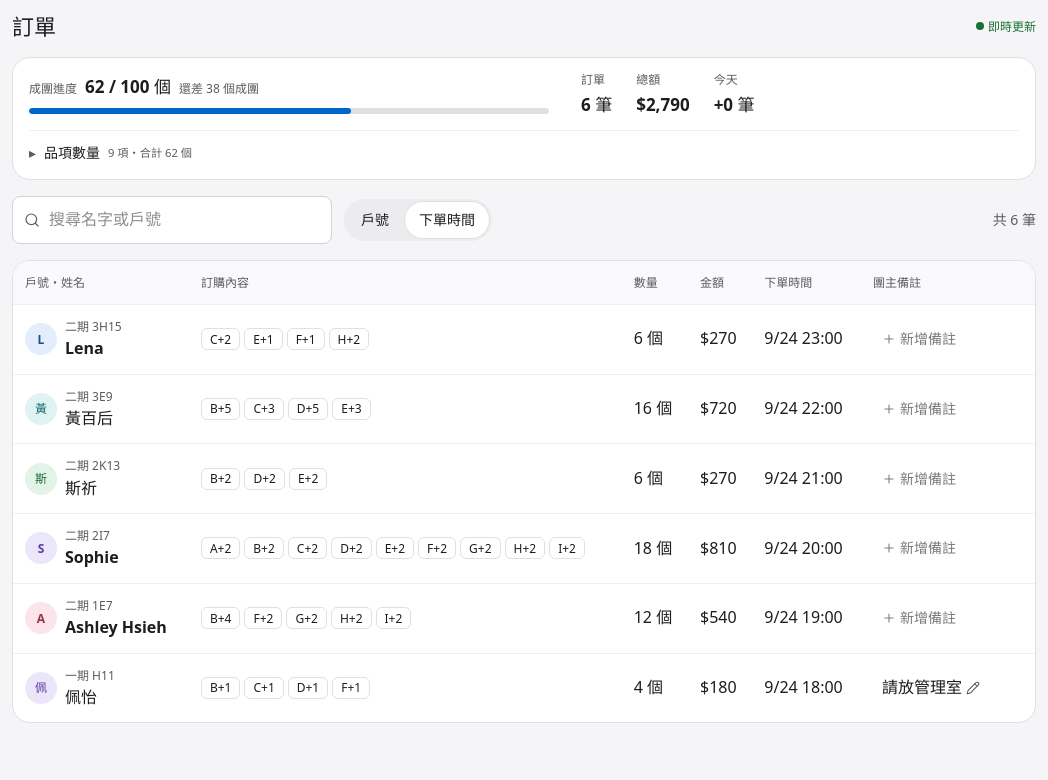
Test case: OrdersSection › starts with the newest orders while open and by household once closed, and searches by name or household
Click the radio button labelled "戶號".
click(375, 219)  # box [361,210,389,229]
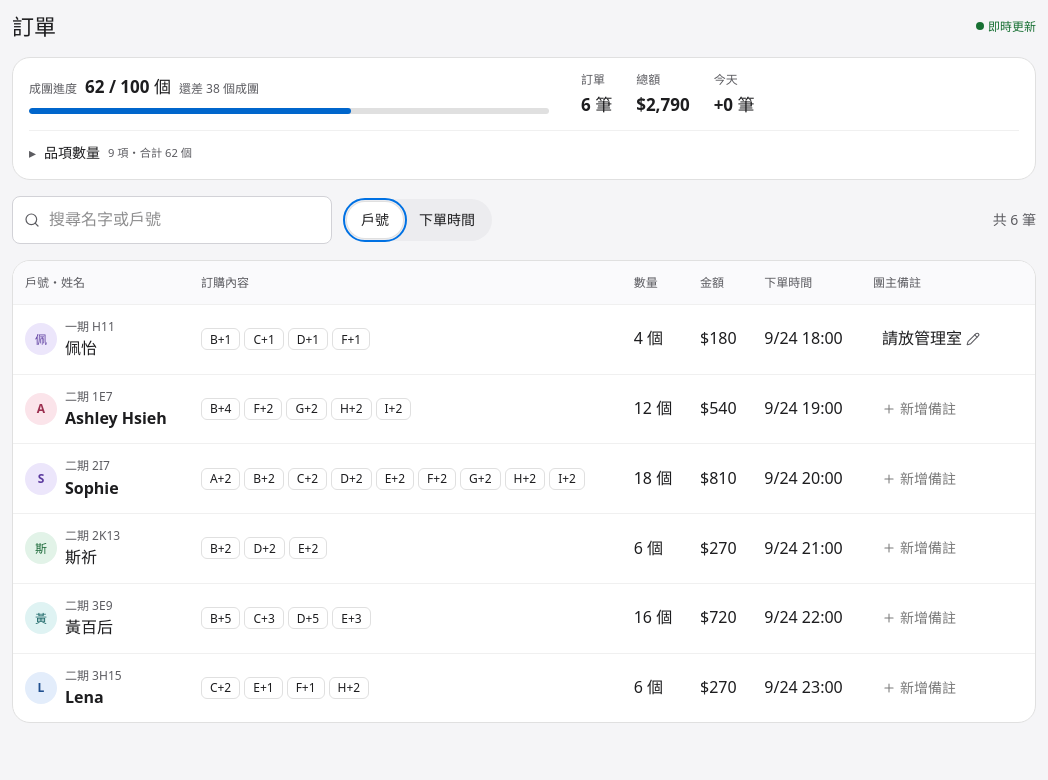
Expected: the text "共 6 筆" is shown, [993,209,1036,231]
Type "2k13" into the search field named "搜尋訂單".
click(172, 220); type("2k13")  # box [12,196,332,244]
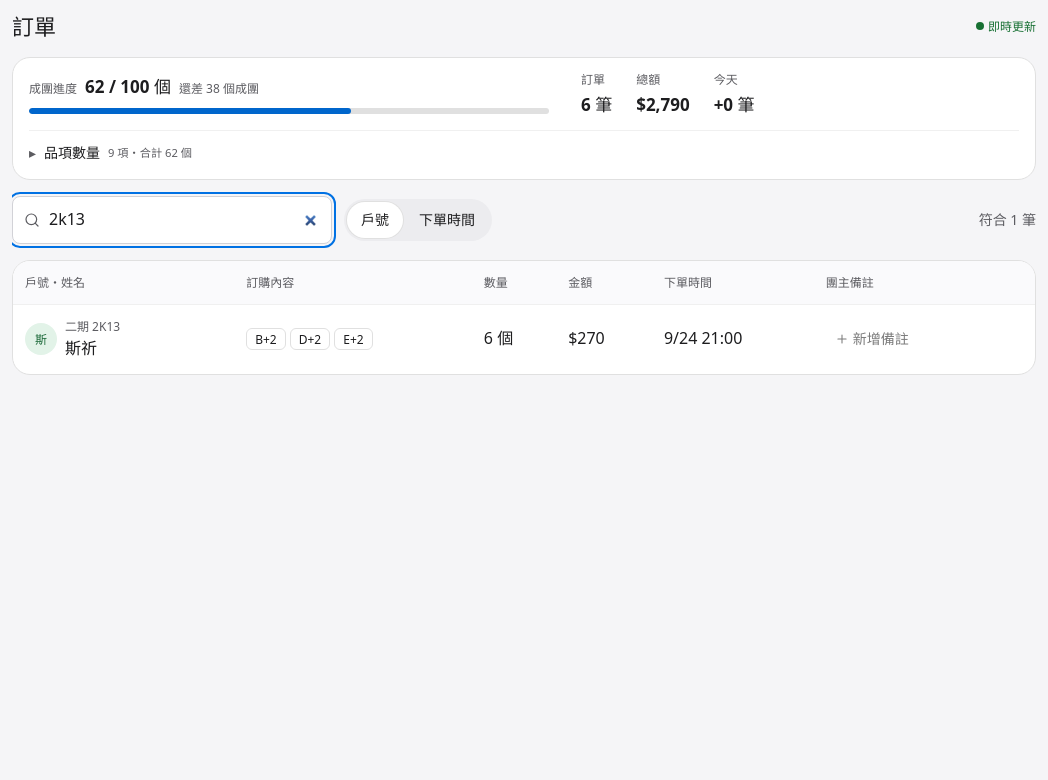
Replace the text in the search field named "搜尋訂單" with "不存在的人" at (172, 220), box [12,196,332,244]
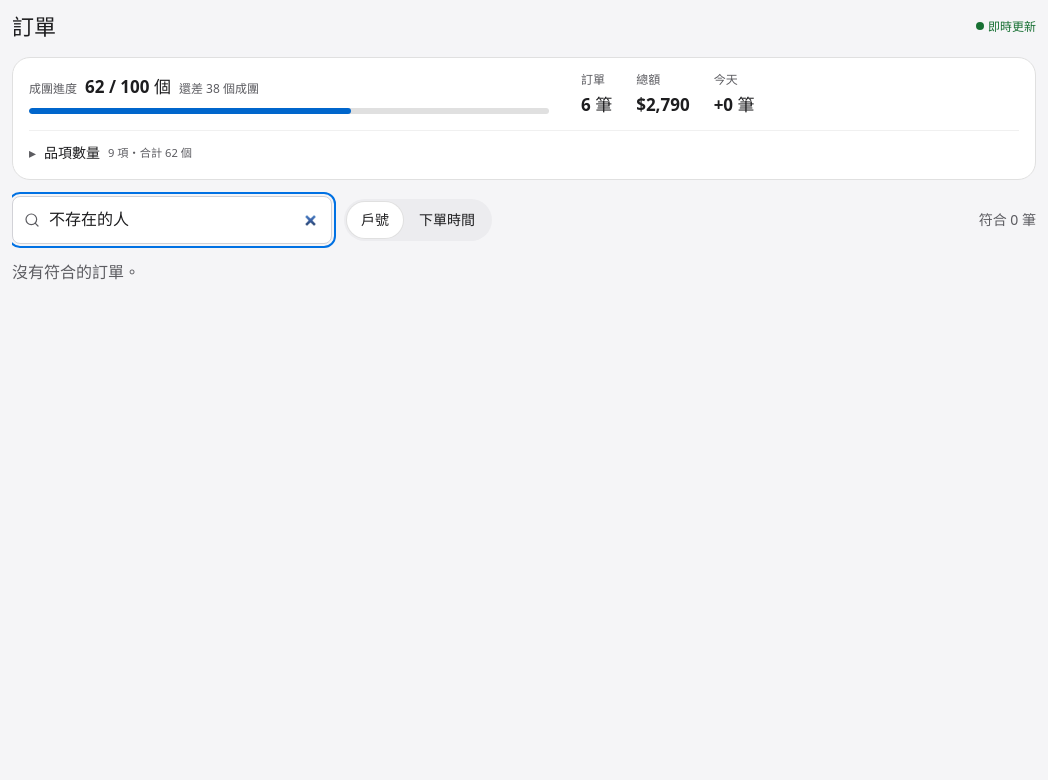
Expected: the text "沒有符合的訂單。" is shown, [12,261,140,283]
